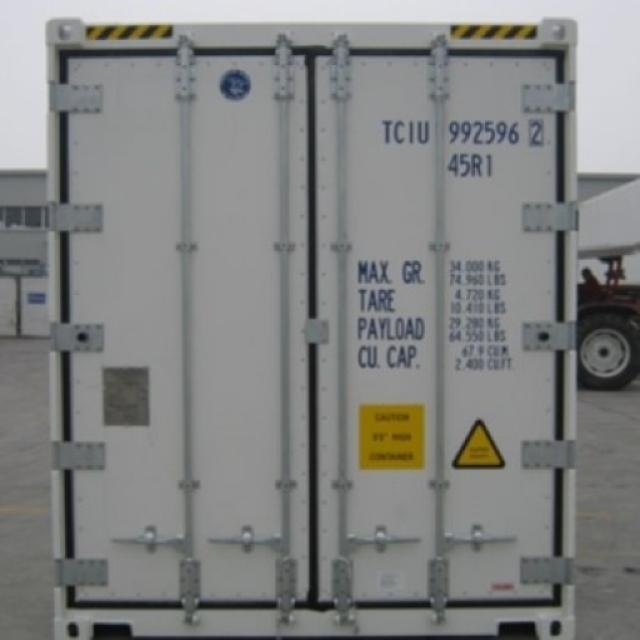ISO: (446, 150, 496, 180)
container_number: (386, 120, 550, 148)
